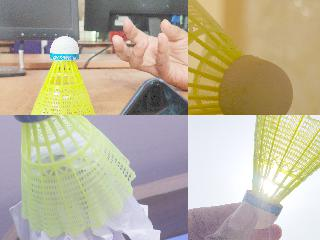shuttlecock: (3, 115, 135, 237), (188, 0, 292, 114), (240, 115, 319, 229), (27, 35, 98, 114)
